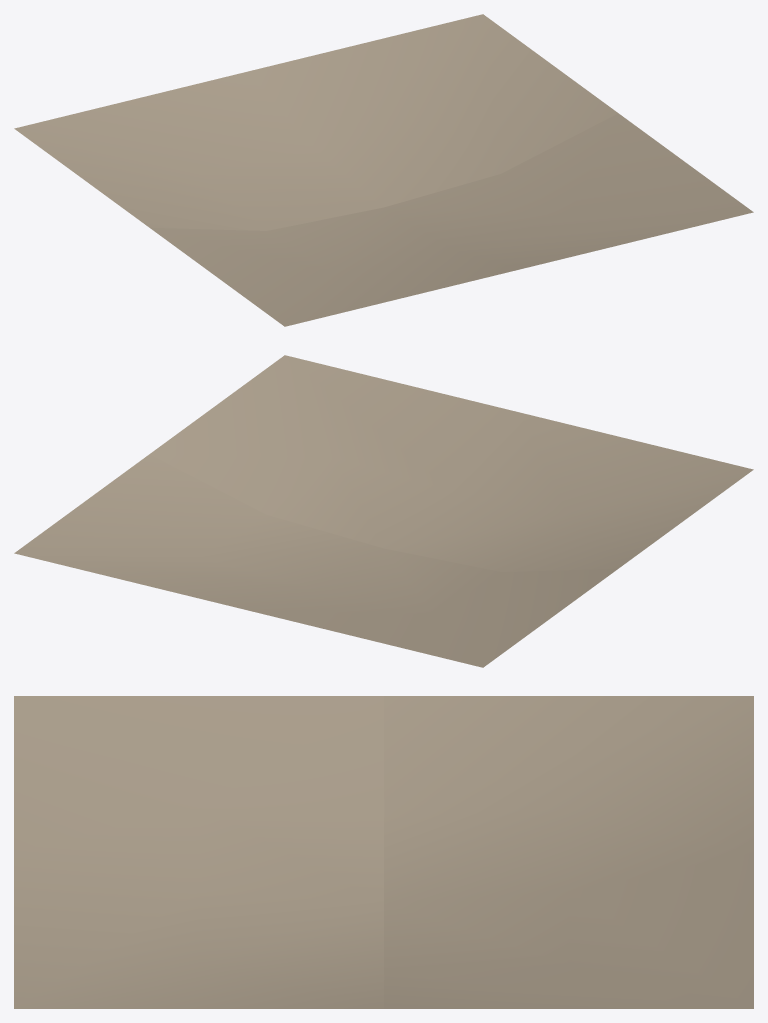
File: SM_Net_Cieling_1x1M.fbx
3 renders of one model, top to bottom at view 1: azimuth 30°, elevation 25°; view 2: azimuth 150°, elevation 25°; view 3: azimuth 270°, elevation 25°, orthographic. The views are drawn at different scales.
Visible parts, largest first — view 1: Net_Cieling_1x1; view 2: Net_Cieling_1x1; view 3: Net_Cieling_1x1.
Boxes of the visible parts, x1,y1,x2,y2 form: Net_Cieling_1x1: [14, 14, 753, 326]; Net_Cieling_1x1: [14, 355, 753, 667]; Net_Cieling_1x1: [14, 696, 753, 1008].
Size of the model in its own units: 100 by 7.54 by 100.
